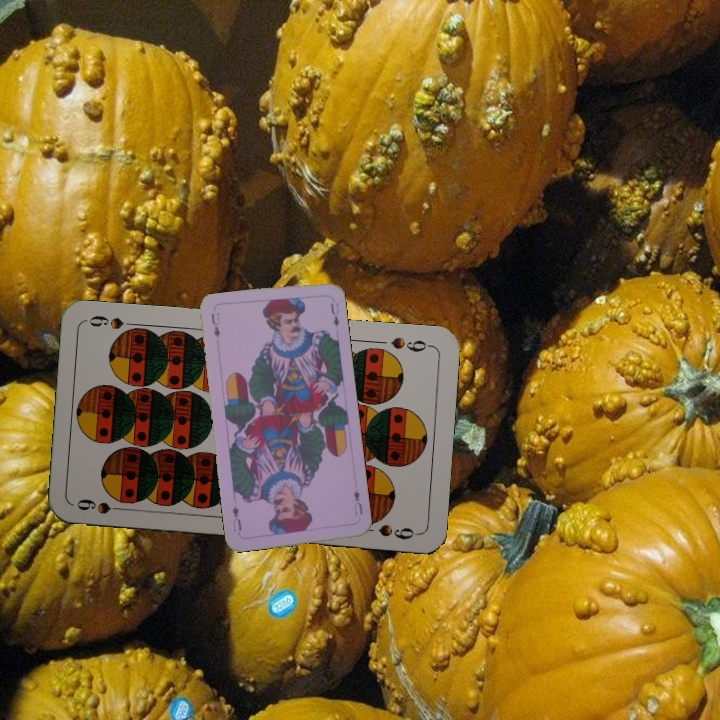EU: (349, 486, 365, 518), (207, 309, 223, 340)
S9: (72, 494, 131, 517), (387, 333, 434, 354)
